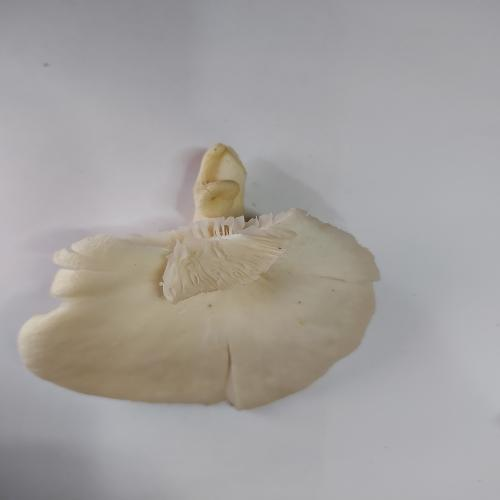Oyster Mushroom: (11, 213, 376, 405), (192, 142, 248, 222)
